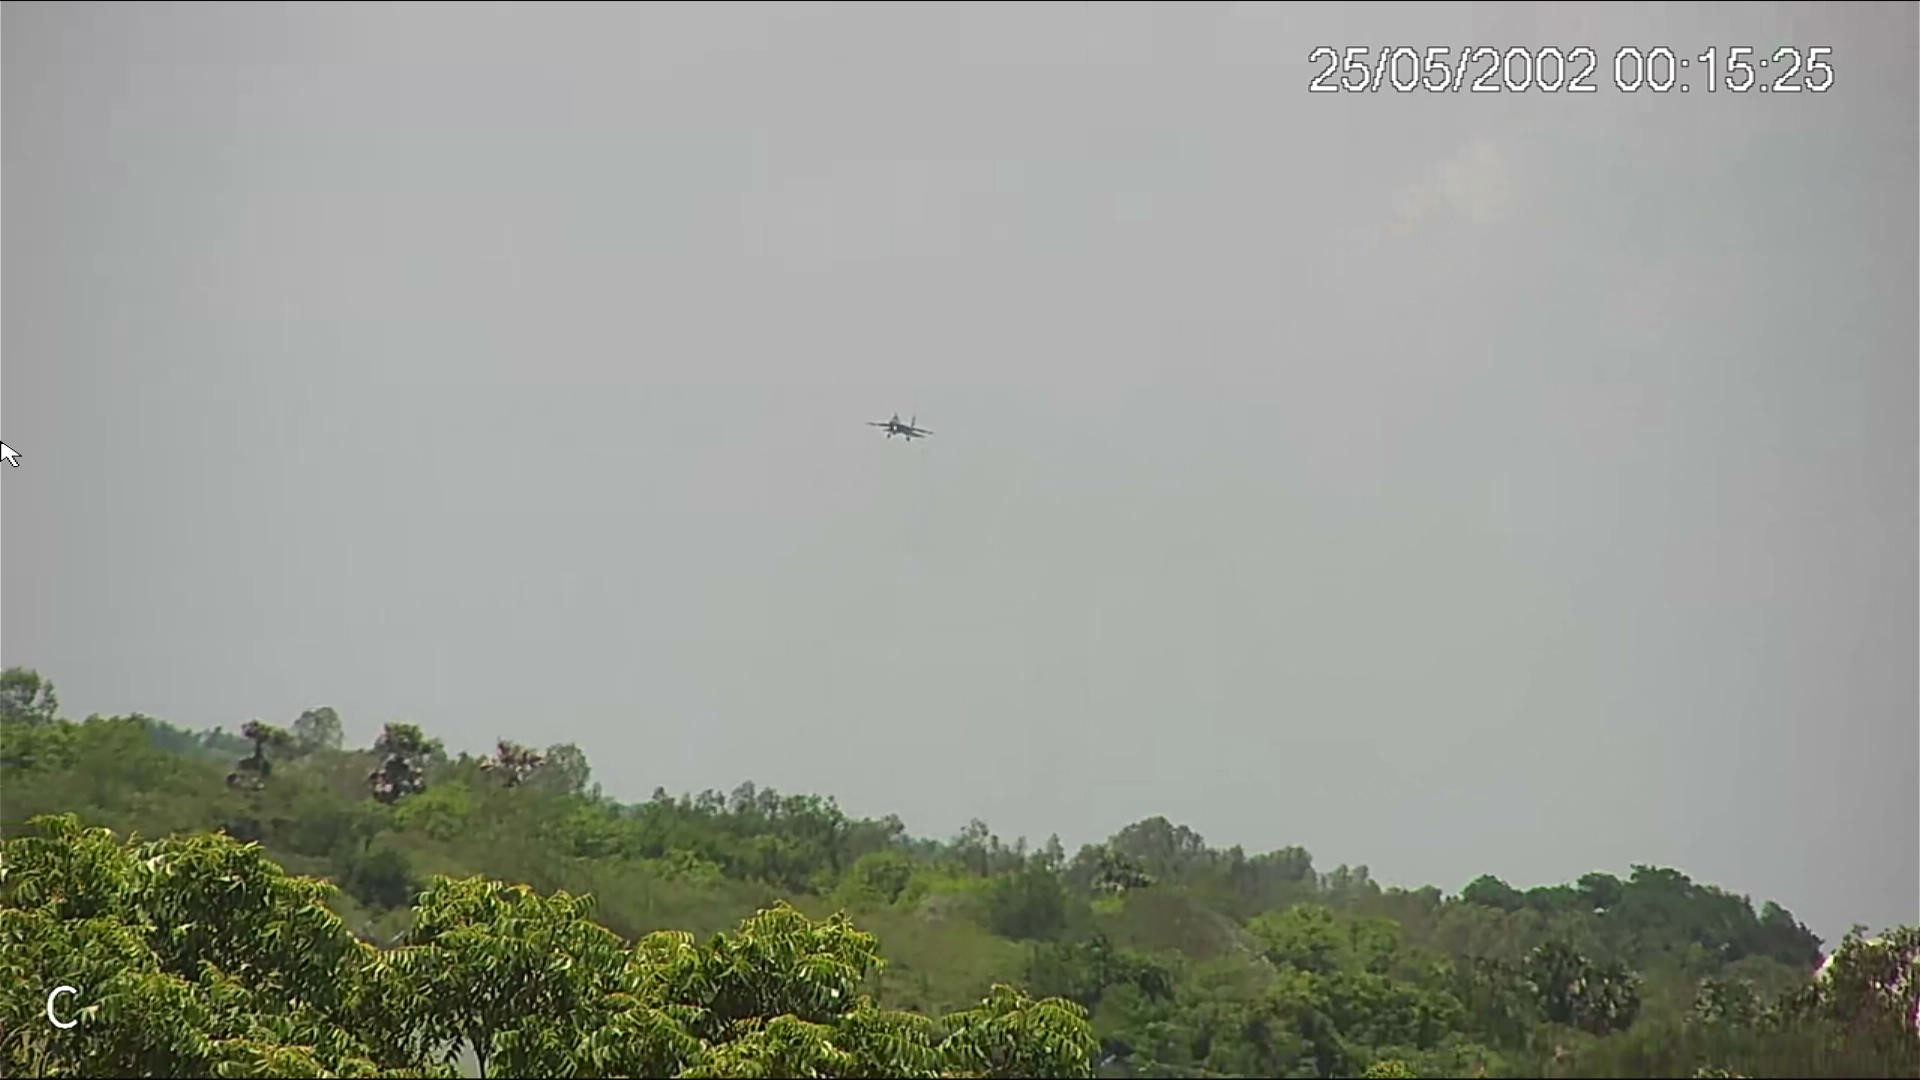SU_30: (866, 411, 935, 443)
